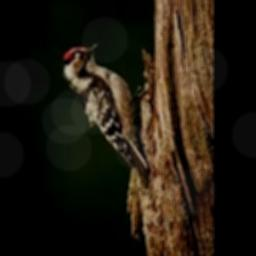Woodpecker: (61, 41, 148, 186)
